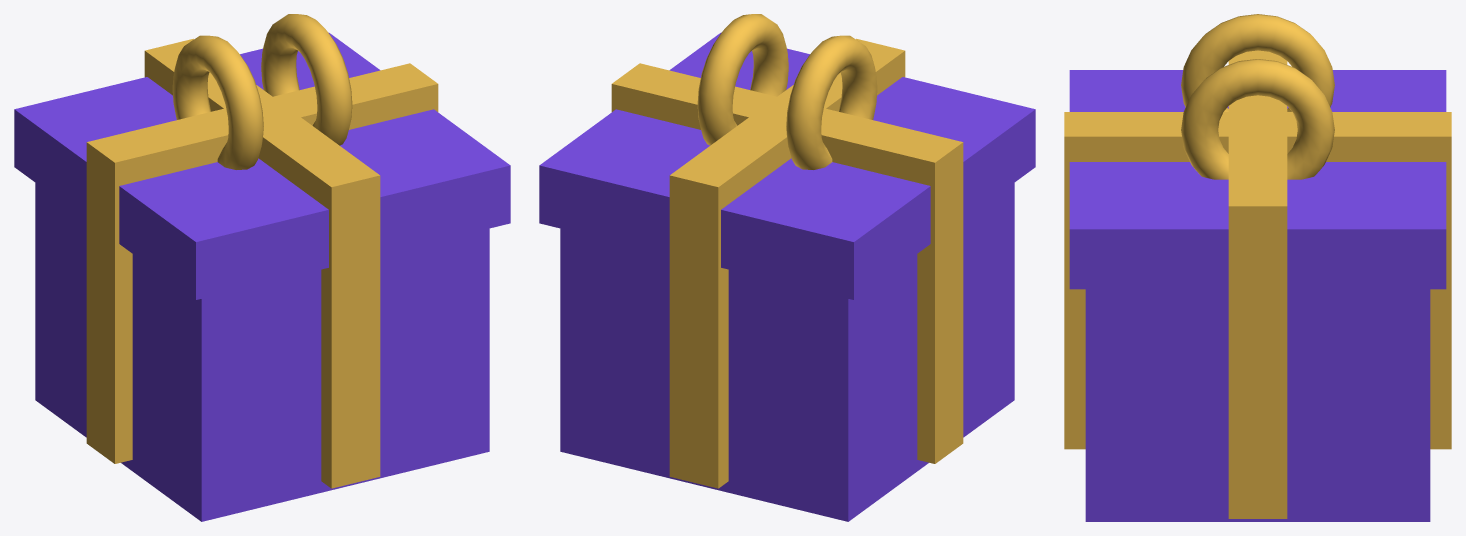
Rendered from gift-box.glb.
3 renders of one model, left to right at view 1: azimuth 30°, elevation 25°; view 2: azimuth 150°, elevation 25°; view 3: azimuth 270°, elevation 25°, orthographic. The views are drawn at different scales.
Size of the model in its own units: 1.46 by 1.71 by 1.46.
